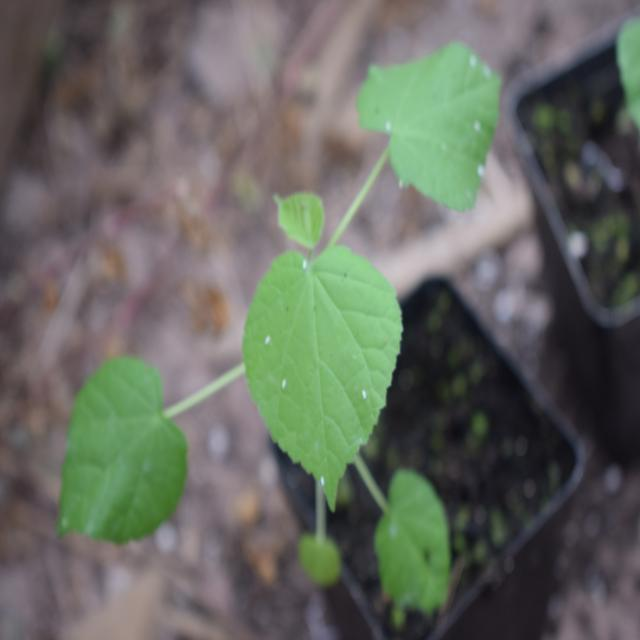abutilon theophrasti: (87, 51, 510, 560)
